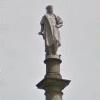Statue: (33, 4, 67, 90)
